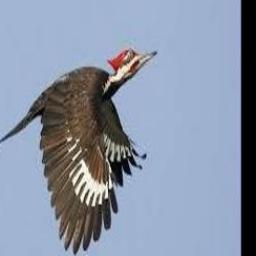Woodpecker: (0, 48, 156, 255)
